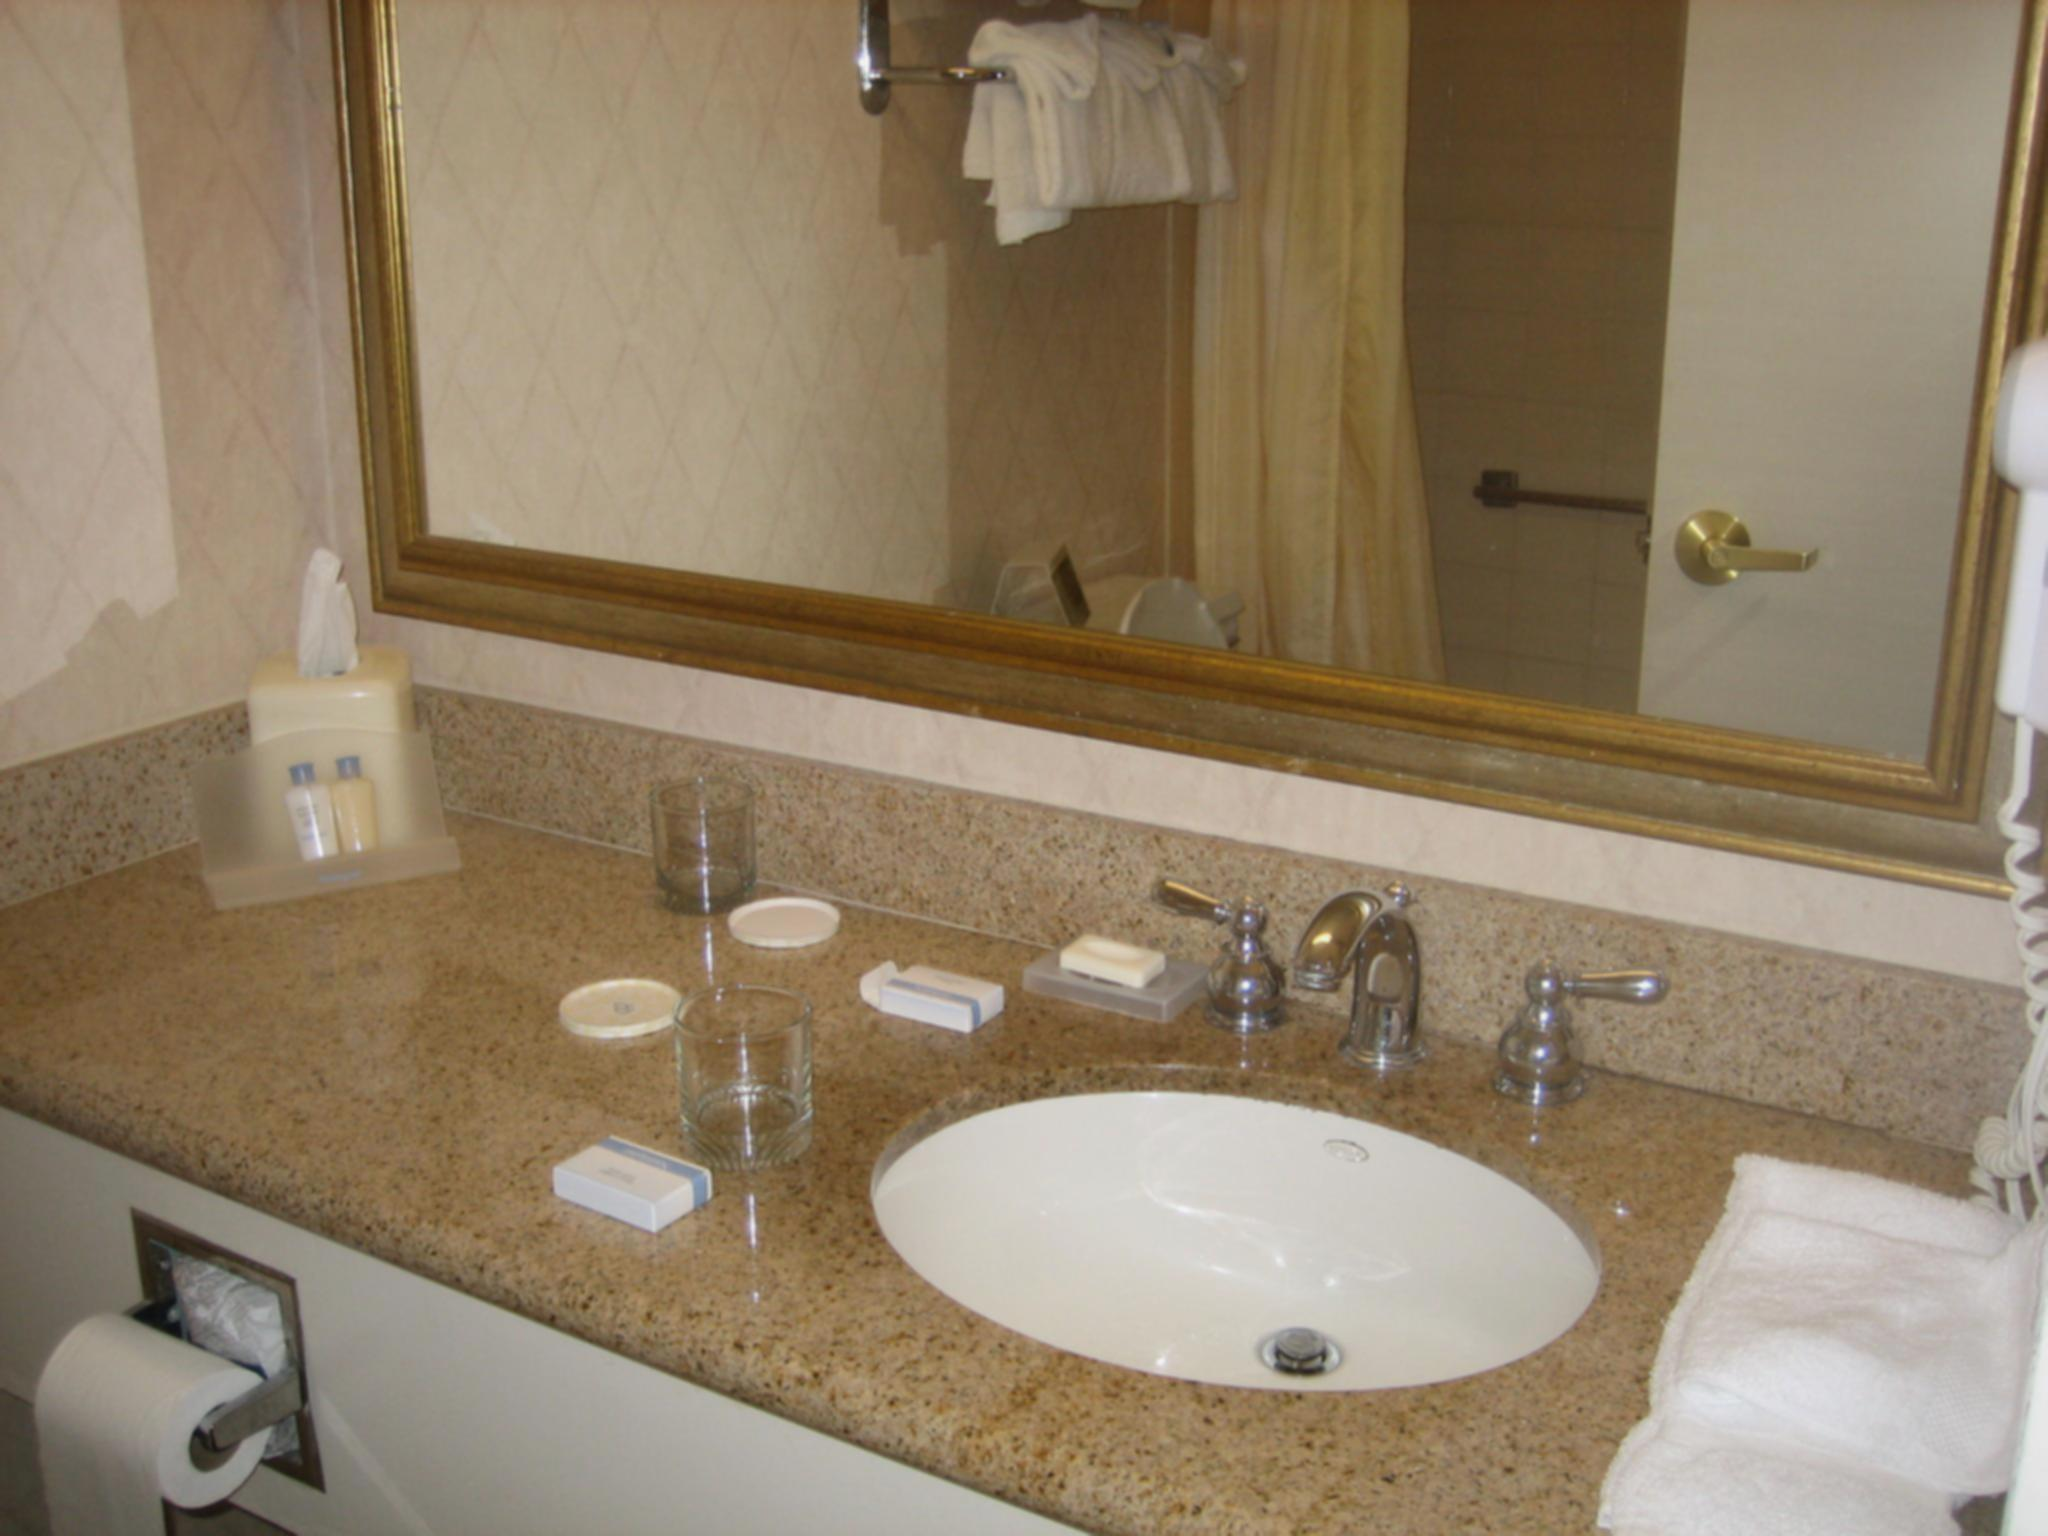Lavamanos: (855, 813, 1687, 1439)
